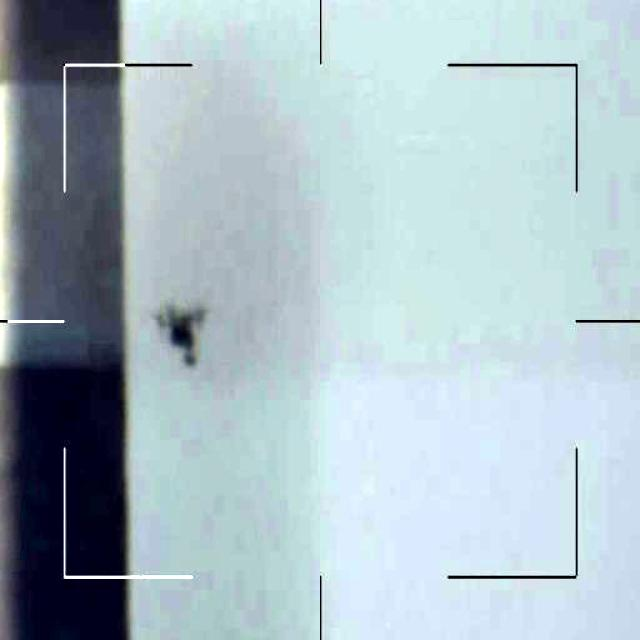bird: (145, 295, 208, 375)
